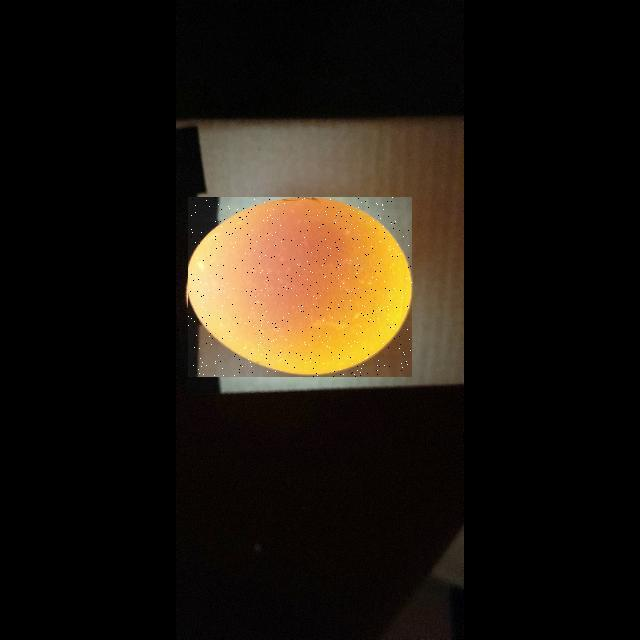A - Good: (184, 193, 412, 378)
